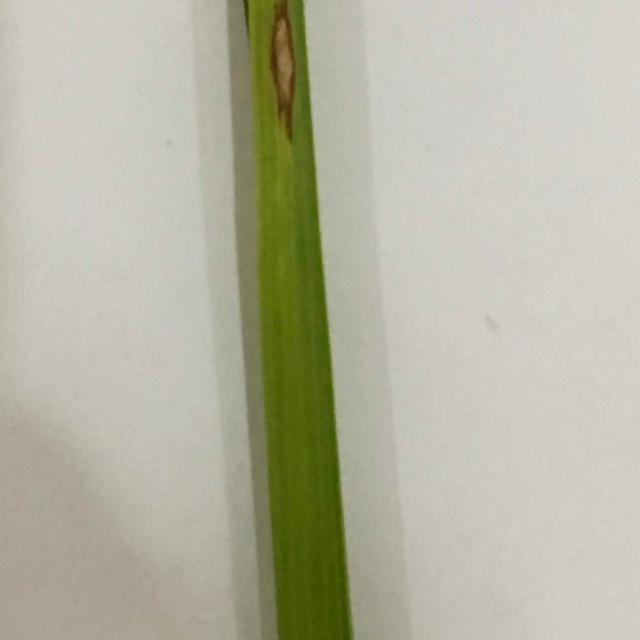Blast: (270, 15, 301, 129)
